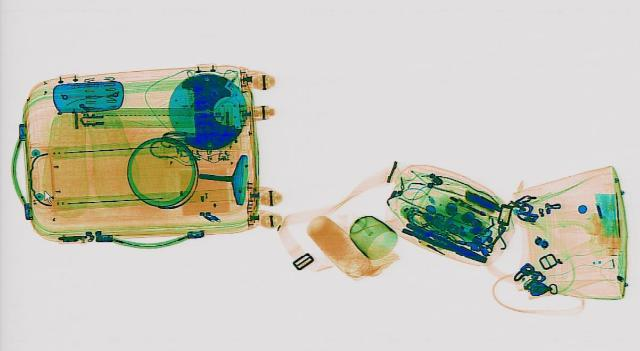Pliers: (394, 220, 494, 264)
